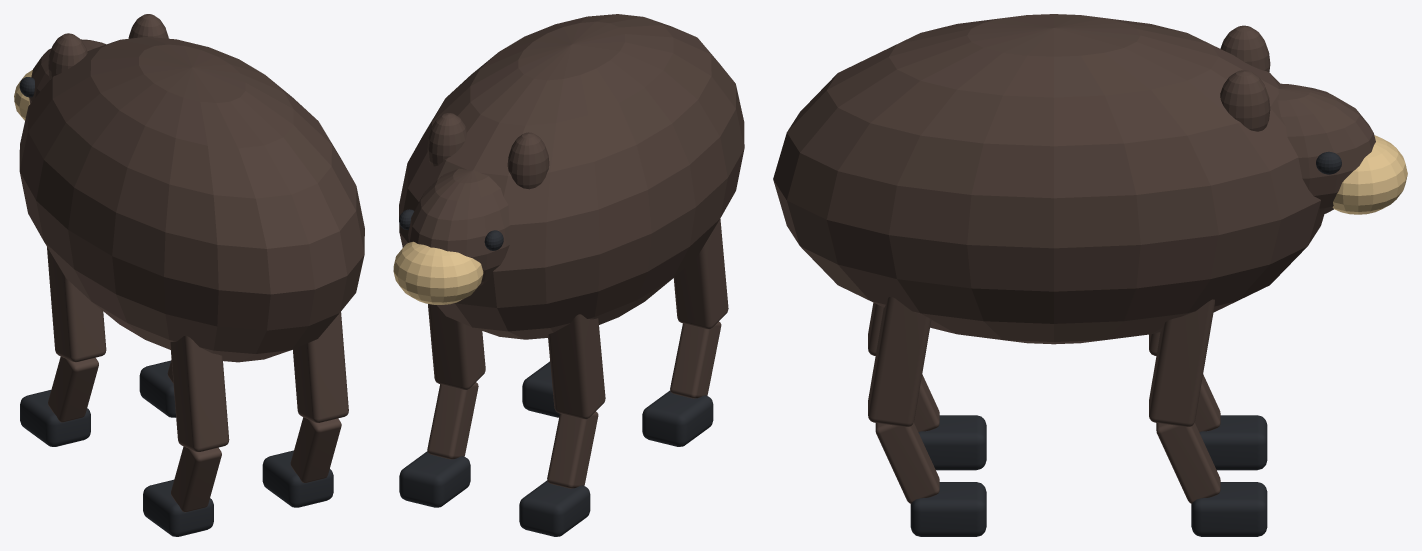
File: bear.glb
3 views of the same model, side by side, from view 1: azimuth 30°, elevation 25°; view 2: azimuth 150°, elevation 25°; view 3: azimuth 270°, elevation 25° (orthographic). The views are drawn at different scales.
Parts seen in each view (by area): view 1: 504039, Leg2, Leg3, Leg0, dark.004, dark.001, dark.003, dark.002; view 2: 504039, Leg0, Leg2, Leg1, sand, dark.001, dark.002, dark.003, dark.004, dark; view 3: 504039, Leg3, Leg1, dark.002, dark.004, sand, dark.001, dark.003, Leg2, Leg0.
Part boxes in pixels (x1=…): 504039: x1=19, y1=14, x2=364, y2=362; Leg2: x1=170, y1=335, x2=229, y2=512; Leg3: x1=290, y1=312, x2=348, y2=482; Leg0: x1=47, y1=247, x2=106, y2=422; dark.004: x1=262, y1=450, x2=333, y2=507; dark.001: x1=20, y1=390, x2=90, y2=446; dark.003: x1=143, y1=479, x2=213, y2=536; dark.002: x1=139, y1=360, x2=175, y2=417; 504039: x1=399, y1=14, x2=744, y2=339; Leg0: x1=547, y1=314, x2=605, y2=488; Leg2: x1=670, y1=219, x2=728, y2=398; Leg1: x1=427, y1=304, x2=485, y2=459; sand: x1=393, y1=241, x2=483, y2=304; dark.001: x1=519, y1=480, x2=590, y2=536; dark.002: x1=399, y1=451, x2=470, y2=507; dark.003: x1=642, y1=390, x2=713, y2=446; dark.004: x1=522, y1=361, x2=559, y2=417; dark: x1=399, y1=209, x2=503, y2=250; 504039: x1=773, y1=14, x2=1375, y2=344; Leg3: x1=868, y1=297, x2=939, y2=503; Leg1: x1=1149, y1=299, x2=1220, y2=503; dark.002: x1=1191, y1=482, x2=1267, y2=536; dark.004: x1=910, y1=482, x2=986, y2=536; sand: x1=1332, y1=135, x2=1407, y2=214; dark.001: x1=1199, y1=415, x2=1267, y2=470; dark.003: x1=918, y1=415, x2=986, y2=470; Leg2: x1=868, y1=302, x2=939, y2=431; Leg0: x1=1149, y1=332, x2=1220, y2=431.
Bounding box in the file's own units: 1.12 × 1.76 × 2.17.
